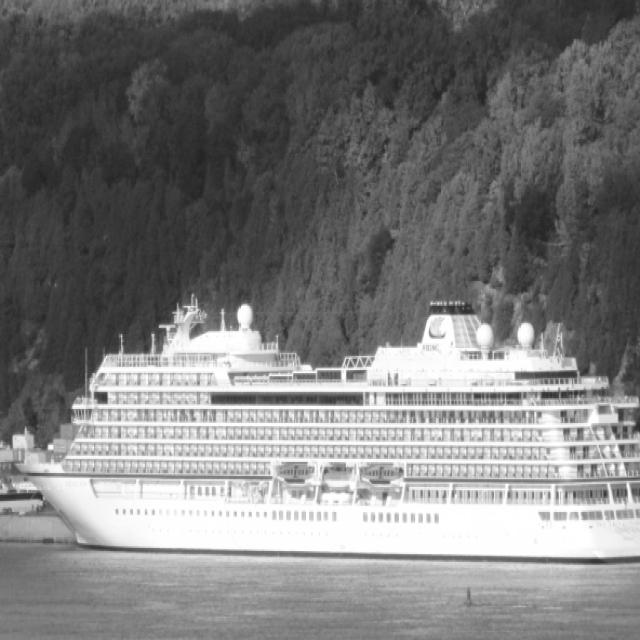cruises: (12, 289, 640, 573)
